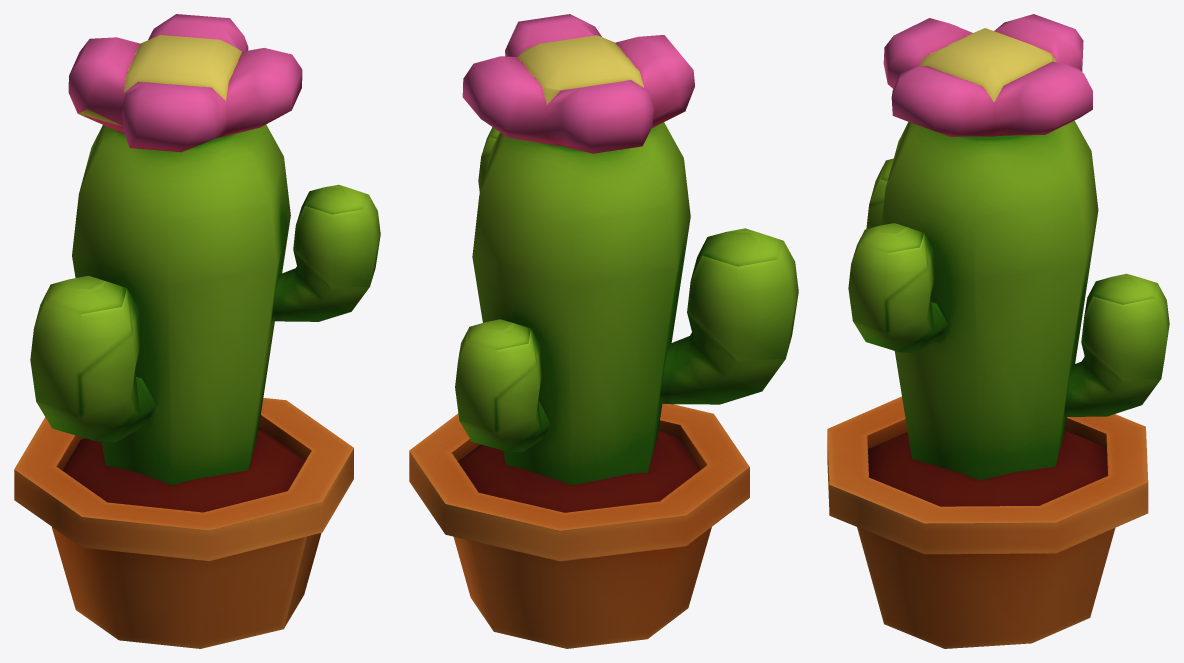
Rendered from cay2.fbx.
The picture shows the model from 3 angles, left to right: view 1: azimuth 30°, elevation 25°; view 2: azimuth 150°, elevation 25°; view 3: azimuth 270°, elevation 25°; orthographic projection.
Visible parts, largest first — view 1: cay2_; view 2: cay2_; view 3: cay2_.
Boxes of the visible parts, <box> form: cay2_: <box>14,14,380,648</box>; cay2_: <box>409,14,798,648</box>; cay2_: <box>827,14,1169,648</box>.
Bounding box in the file's own units: 68.62 × 110 × 61.56.
Materials: 1 (1 with a texture image).
